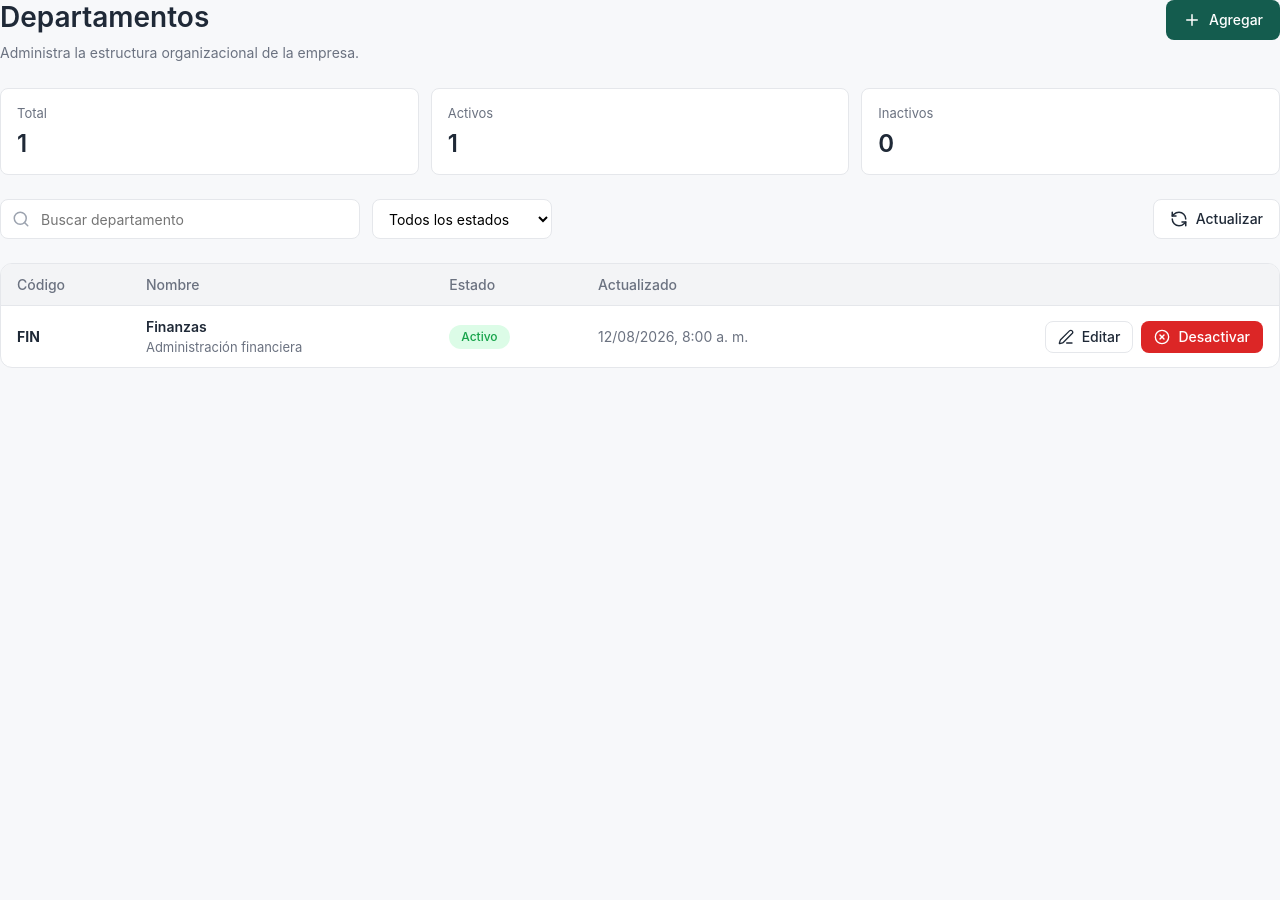
DepartmentsPage › opens a styled status confirmation dialog
Expected: the text "Finanzas" is shown, x1=146 y1=318 x2=207 y2=335
Click the button "Desactivar" at (1202, 337), box x1=1142 y1=321 x2=1263 y2=353
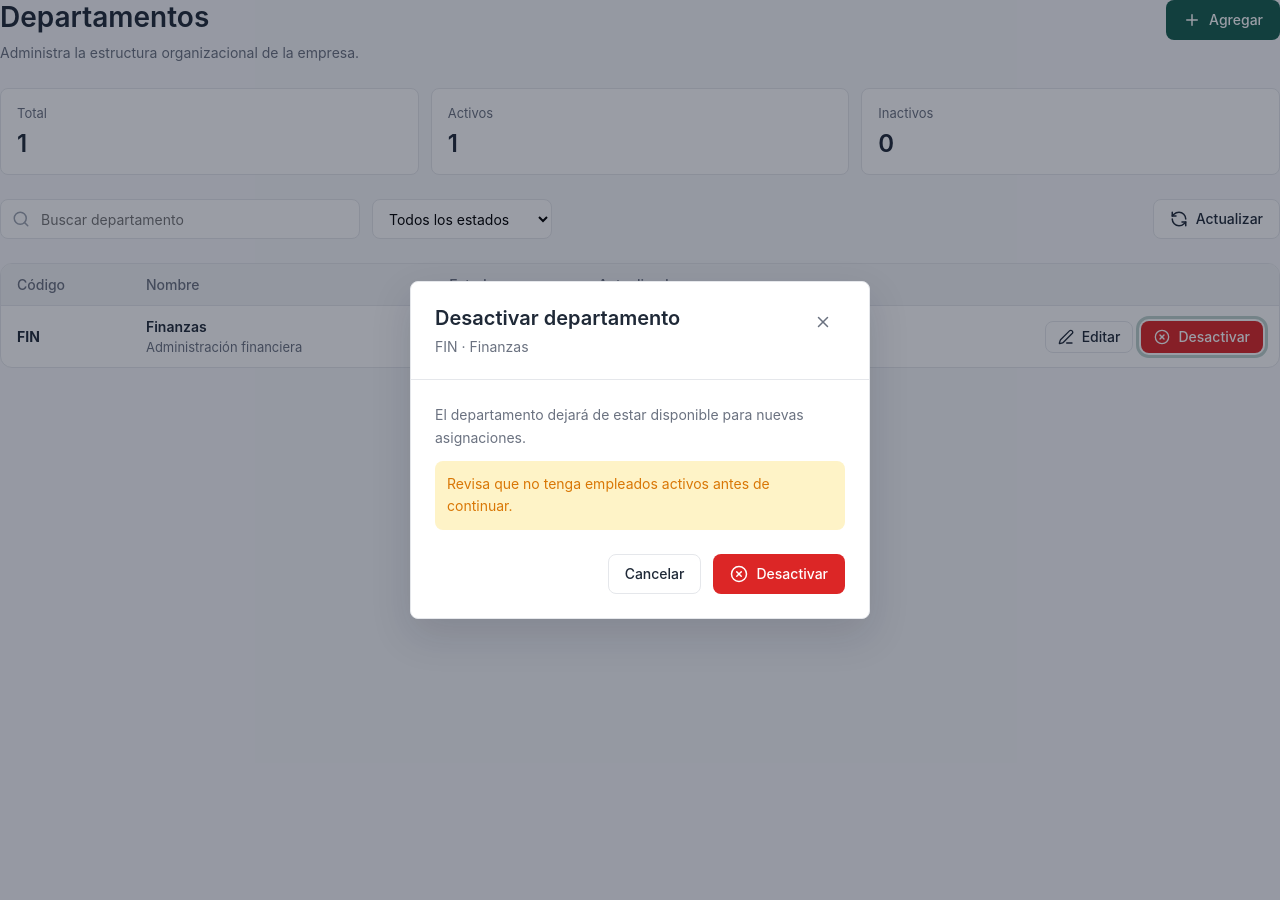
Expected: the dialog "Desactivar departamento" is shown, x1=410 y1=281 x2=870 y2=619
Expected: the text "Revisa que no tenga empleados activos antes de continuar." is shown, x1=435 y1=461 x2=845 y2=530
